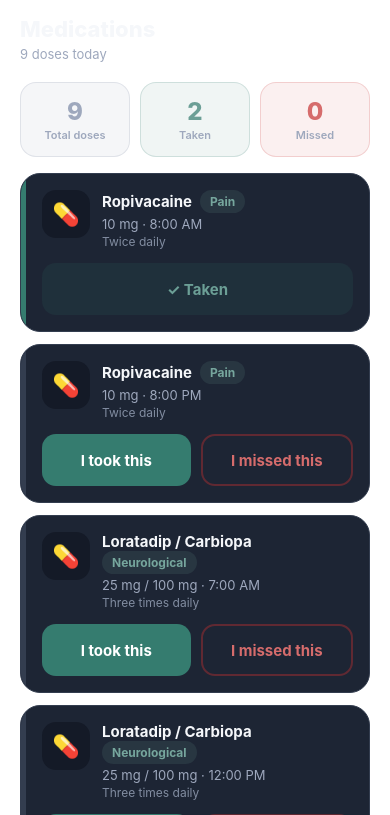
it: MedicationsScreen › accessibility › names a med card's take button after the medication and disables it once taken
Click the button with aria-label ", I took this". click: [116, 460]
box: [42, 434, 190, 486]
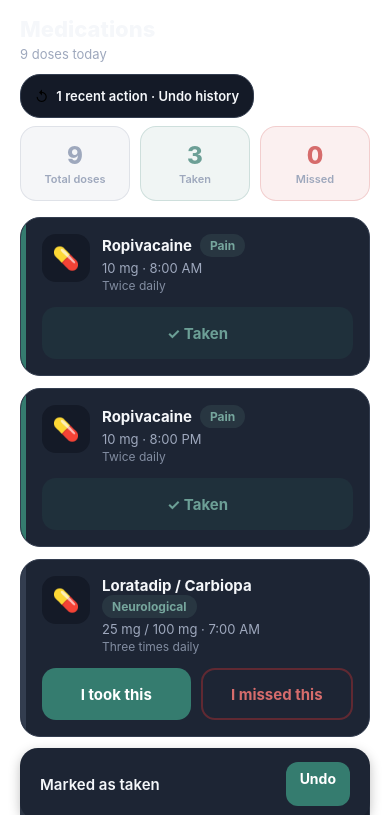
Check: the button named ", I took this" is disabled, box [42, 478, 353, 530]
